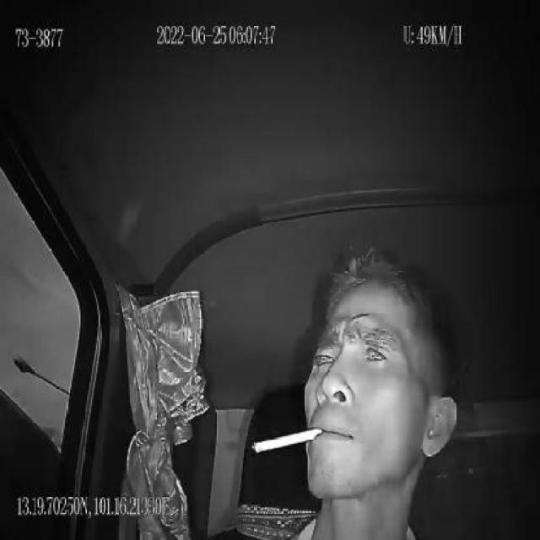smoking: (250, 420, 324, 464)
